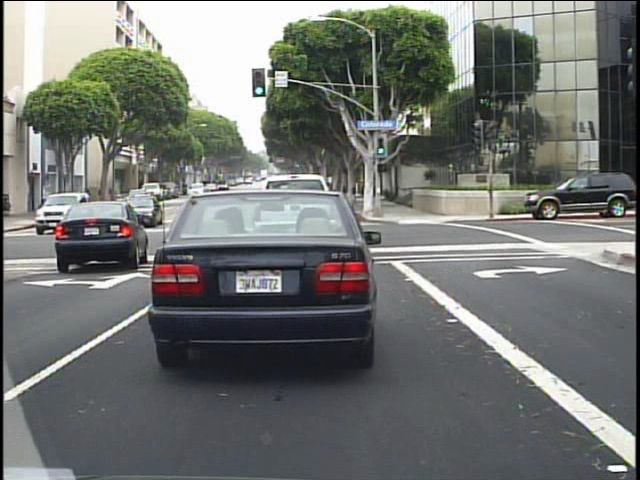person: (78, 184, 95, 218)
